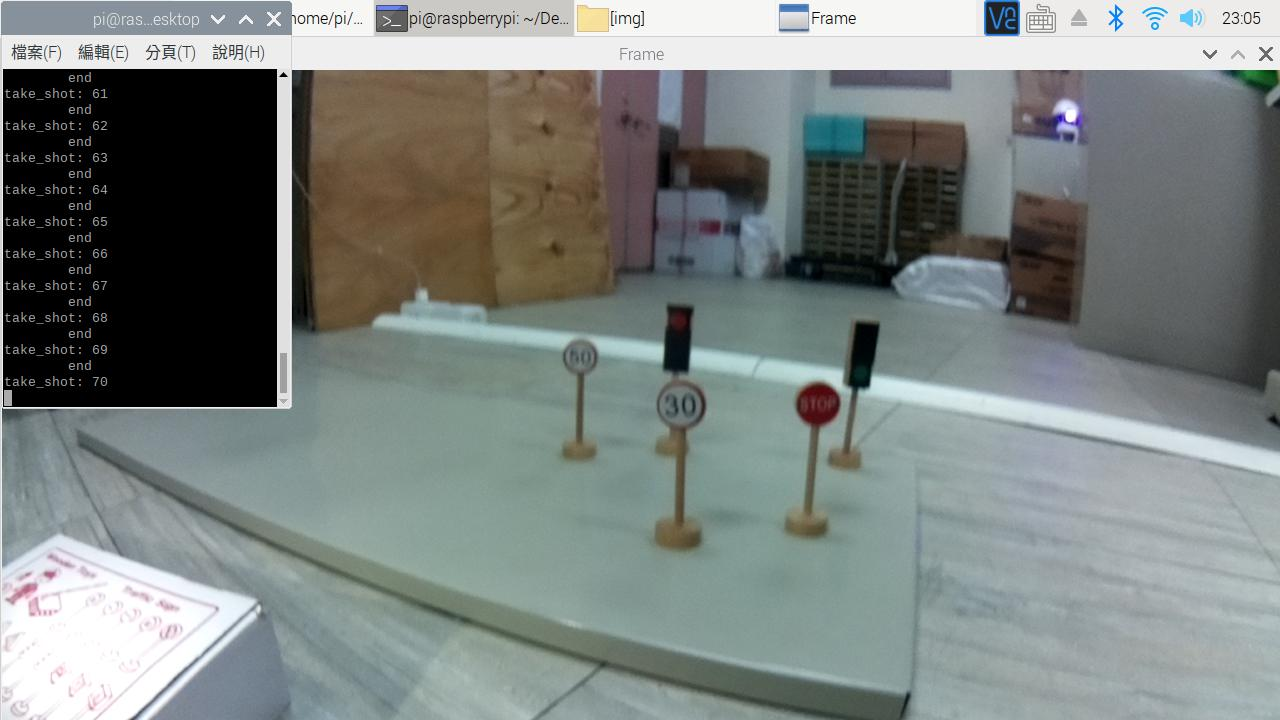Green: (843, 308, 879, 393)
Red: (662, 303, 699, 375)
Speed30: (653, 381, 713, 431)
Speed50: (555, 340, 608, 382)
Stop: (791, 378, 839, 431)
